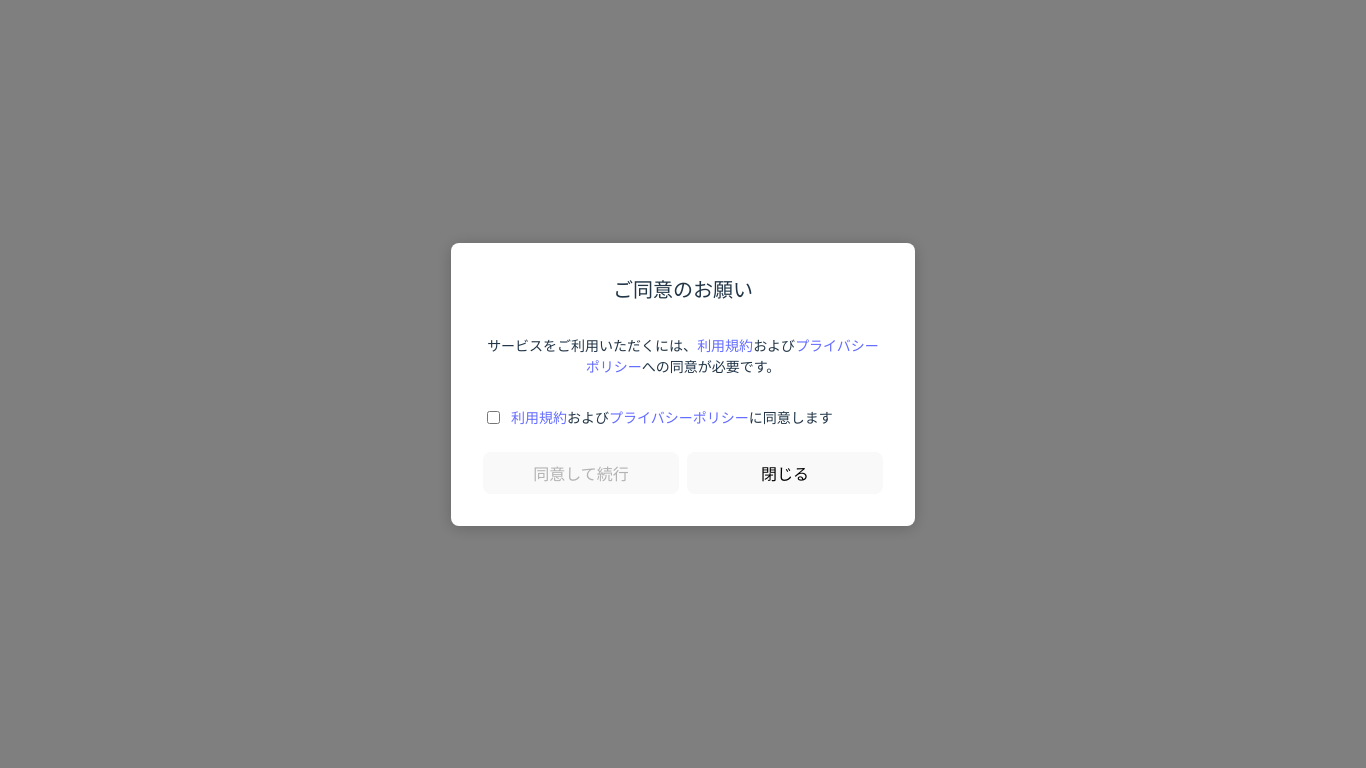
Test case: ConsentModal › チェックボックスがオンで同意ボタンが有効になる
Click the checkbox.
click(494, 417)  # box x1=487 y1=410 x2=500 y2=424
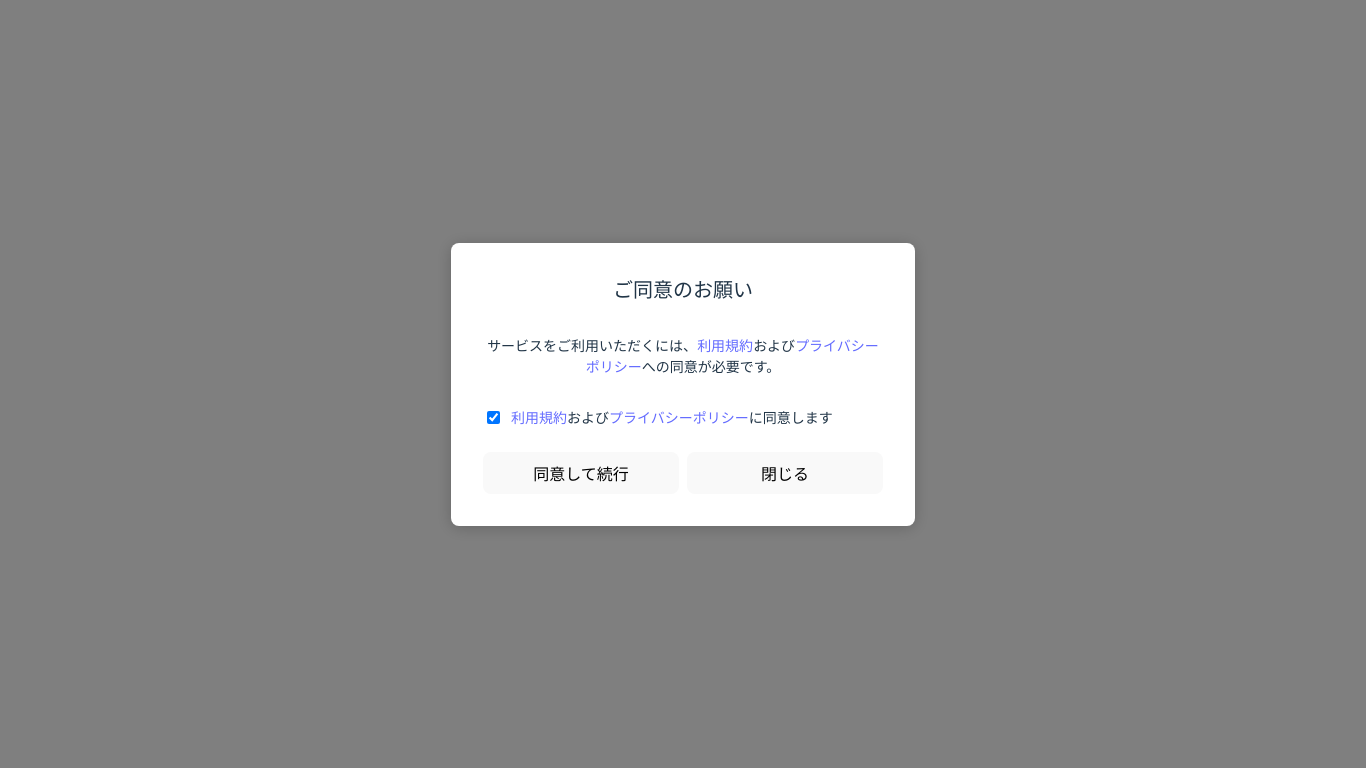
Check: the button "同意して続行" is enabled, box x1=483 y1=452 x2=679 y2=494
